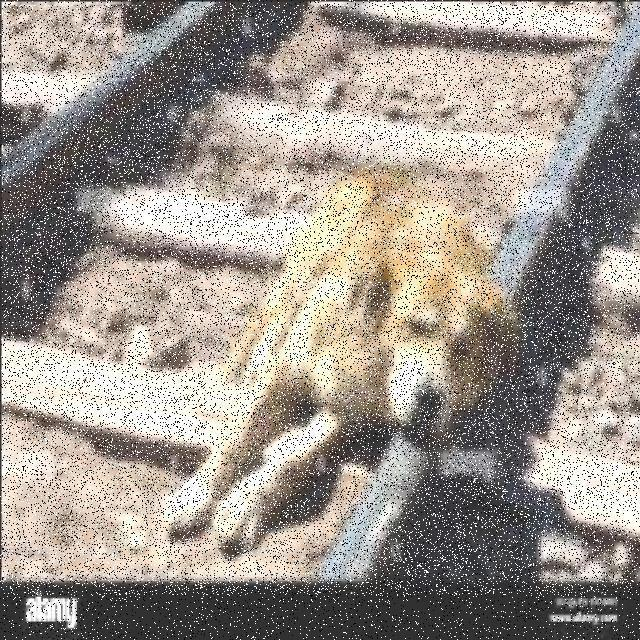rail: (3, 6, 640, 596)
